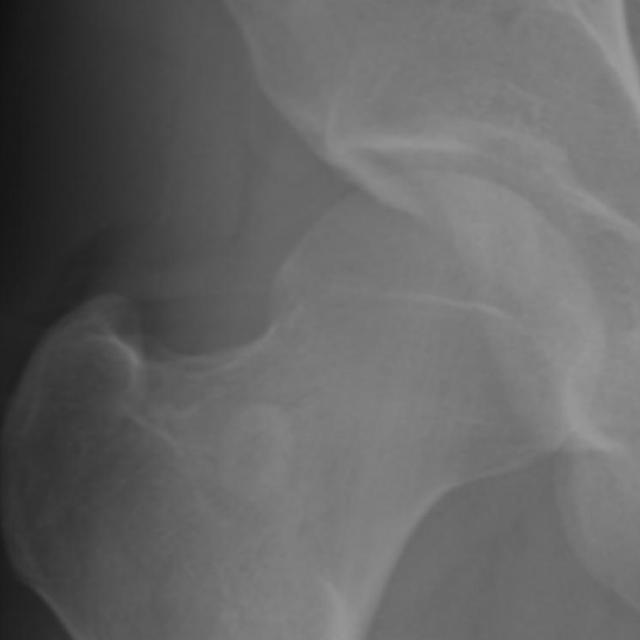Fitted_femural_head: (329, 166, 432, 329)
